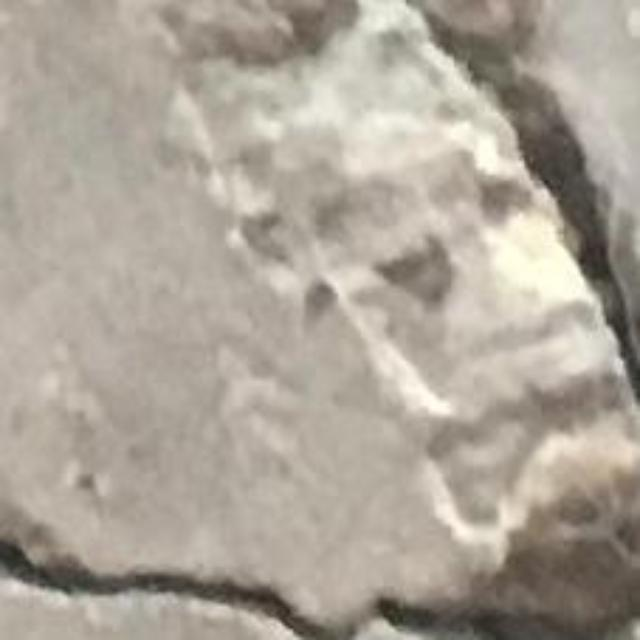crack: (418, 0, 639, 389), (0, 542, 363, 639)
